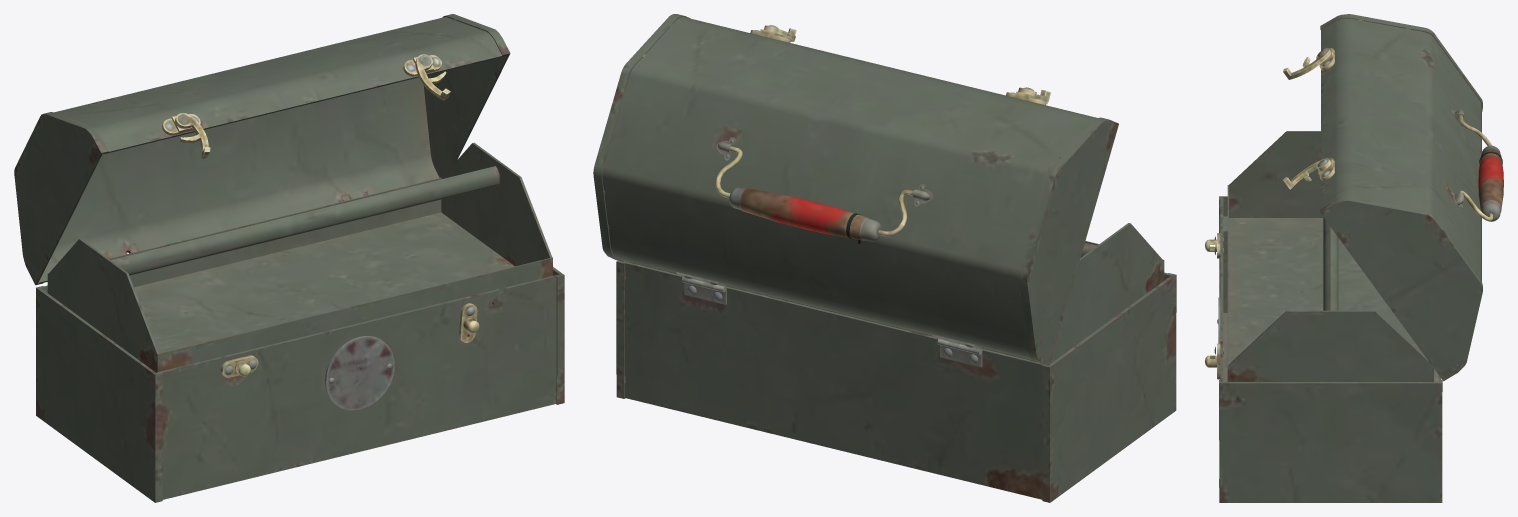
File: metal_toolbox.glb
3 views of the same model, side by side, from view 1: azimuth 30°, elevation 25°; view 2: azimuth 150°, elevation 25°; view 3: azimuth 270°, elevation 25° (orthographic). The views are drawn at different scales.
Visible parts, largest first — view 1: metal_toolbox, metal_toolbox_handle; view 2: metal_toolbox, metal_toolbox_handle; view 3: metal_toolbox, metal_toolbox_handle.
Boxes of the visible parts, x1,y1,x2,y2 form: metal_toolbox: (14, 14, 564, 502); metal_toolbox_handle: (175, 54, 450, 158); metal_toolbox: (593, 14, 1176, 502); metal_toolbox_handle: (715, 25, 1050, 243); metal_toolbox: (1205, 14, 1482, 502); metal_toolbox_handle: (1283, 48, 1503, 221).
Size of the model in its own units: 0.4 by 0.3047 by 0.2705.
1 material, 1 textured.
